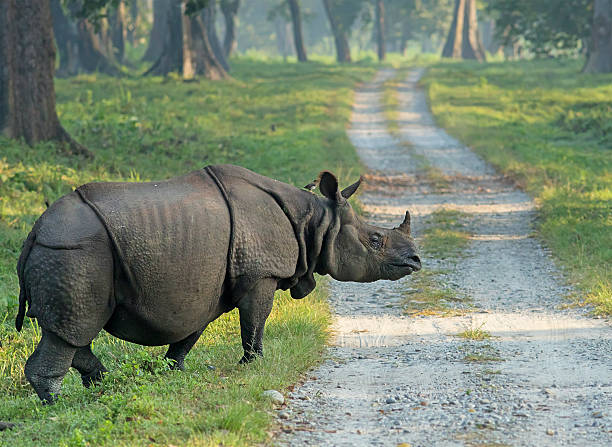rhino: (305, 163, 448, 296)
